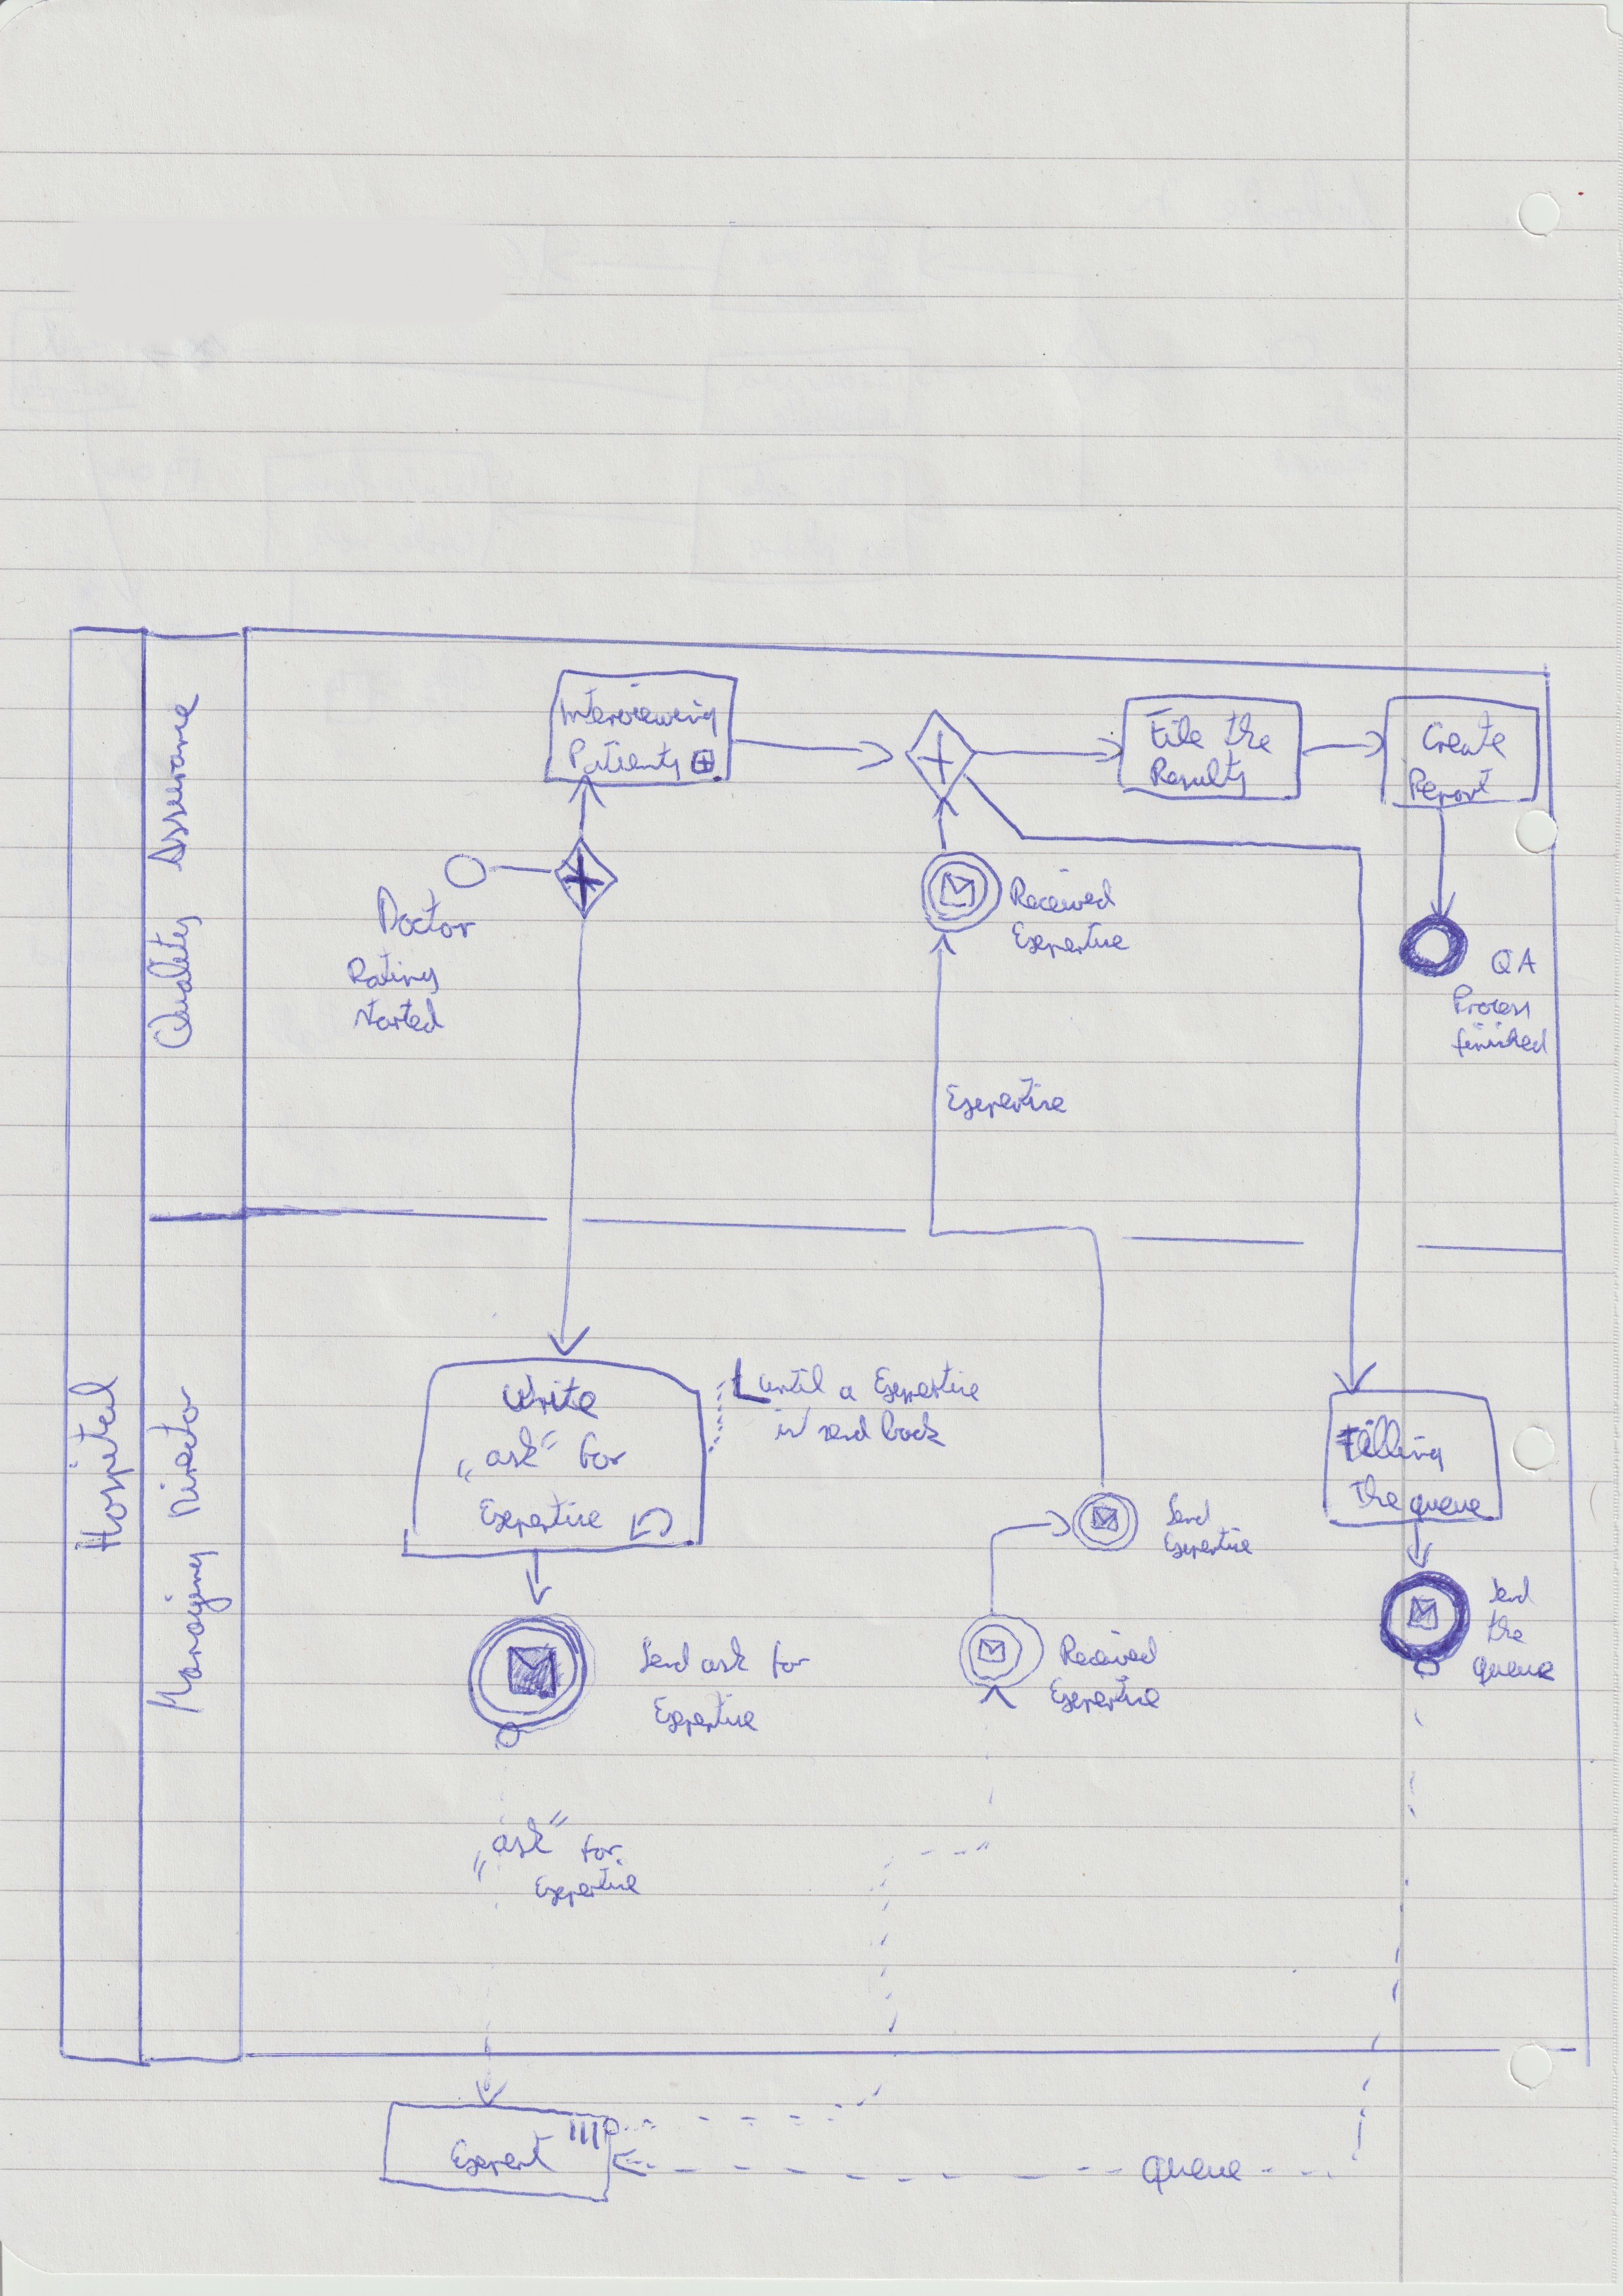Assurance: (140, 686, 205, 881)
Create: (1417, 704, 1512, 766)
Director: (141, 1379, 207, 1525)
Doctor: (370, 878, 482, 945)
Expert: (444, 2124, 564, 2183)
Expertise: (473, 1484, 609, 1543), (941, 1071, 1073, 1126), (528, 1854, 646, 1913), (647, 1685, 764, 1743), (867, 1355, 986, 1409), (1006, 916, 1135, 964), (1043, 1670, 1167, 1719), (1159, 1522, 1257, 1564)
File: (1139, 702, 1211, 755)
Filling: (1331, 1410, 1450, 1479)
Hospital: (62, 1370, 141, 1559)
Interviewing: (552, 677, 723, 743)
Managing: (141, 1544, 238, 1721)
Patients: (563, 730, 686, 787)
Process: (1447, 979, 1536, 1026)
QA: (1485, 944, 1542, 980)
Quality: (139, 908, 209, 1057)
Rating: (341, 941, 446, 1001)
Received: (1003, 863, 1122, 918), (1054, 1625, 1164, 1673)
Report: (1403, 762, 1499, 812)
Results: (1143, 743, 1253, 805)
Send: (633, 1632, 696, 1680), (1160, 1487, 1216, 1532), (1484, 1571, 1541, 1609)
Write: (495, 1367, 605, 1426)
a: (834, 1378, 863, 1407)
ask: (468, 1804, 574, 1886), (450, 1420, 565, 1489), (695, 1631, 754, 1680)
back: (874, 1404, 952, 1453)
finished: (1446, 1018, 1554, 1063)
for: (573, 1425, 633, 1475), (766, 1634, 817, 1685), (575, 1827, 629, 1869)
is: (770, 1403, 815, 1446)
queue: (1135, 2149, 1249, 2200), (1467, 1649, 1560, 1695), (1404, 1488, 1493, 1528)
send: (811, 1409, 878, 1448)
started: (348, 991, 450, 1039)
the: (1218, 704, 1278, 761), (1343, 1469, 1409, 1518), (1482, 1604, 1533, 1649)
until: (751, 1358, 831, 1399)
